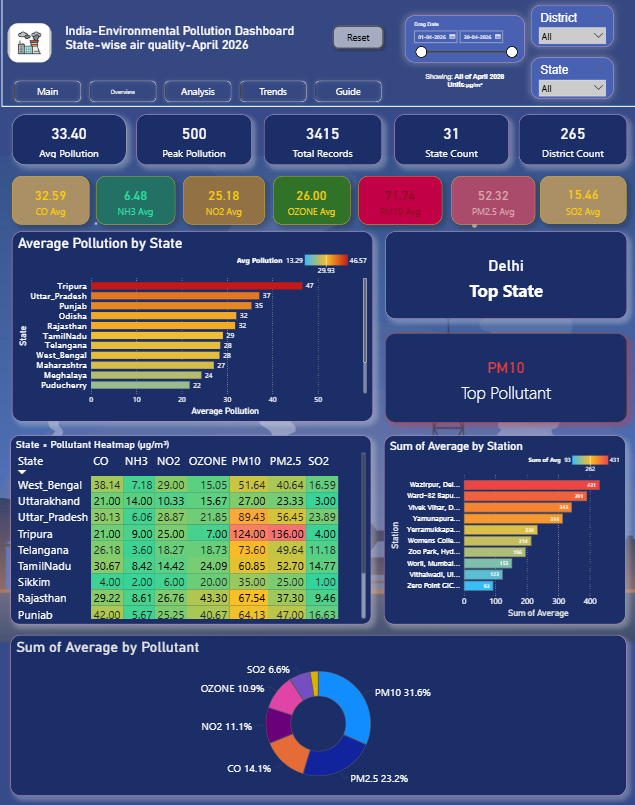

This screenshot's page, from the dashboard's own definition file:
{"tool":"powerbi","page":{"name":"Overview","canvas":[1415,1790],"ordinal":1},"visuals":[{"type":"shape","box":[1.7,0,1413.3,238.3],"z":0},{"type":"textbox","title":"India-Environmental Pollution Dashboard  State-wise air quality-April 2026","box":[140,53.3,553.3,95],"z":1000},{"type":"slicer","fields":{"Values":["Sheet1.District"]},"box":[1180,13.3,183.3,93.3],"z":2000},{"type":"card","fields":{"Values":["Sheet1.Avg Pollution"]},"box":[28,258,254,112],"z":3000},{"type":"card","fields":{"Values":["Sheet1.Peak Pollution"]},"box":[302,258,256,112],"z":4000},{"type":"card","fields":{"Values":["Sheet1.Top State"]},"box":[857,517.9,536.4,194.2],"z":5000},{"type":"card","fields":{"Values":["Sheet1.Total Records"]},"box":[588,258,262,112],"z":6000},{"type":"card","fields":{"Values":["Sheet1.State Count"]},"box":[876,258,254,112],"z":7000},{"type":"card","fields":{"Values":["Sheet1.District Count"]},"box":[1152,258,240,112],"z":8000},{"type":"clusteredBarChart","title":"Average Pollution by State","fields":{"Category":["Sheet1.State"],"Y":["Sheet1.Avg Pollution"]},"box":[28,518,802,422],"z":9000},{"type":"card","fields":{"Values":["Sheet1.Top Pollutant"]},"box":[857,742.9,536.4,197.3],"z":10000},{"type":"card","fields":{"Values":["Sheet1.CO Avg"]},"box":[28,392,172,108],"z":11000},{"type":"card","fields":{"Values":["Sheet1.NH3 Avg"]},"box":[214,392,176,108],"z":12000},{"type":"card","fields":{"Values":["Sheet1.NO2 Avg"]},"box":[406,392,182,108],"z":13000},{"type":"card","fields":{"Values":["Sheet1.OZONE Avg"]},"box":[608,392,172,108],"z":14000},{"type":"card","fields":{"Values":["Sheet1.PM10 Avg"]},"box":[796,392,186,108],"z":15000},{"type":"card","fields":{"Values":["Sheet1.PM2.5 Avg"]},"box":[1004,392,186,108],"z":16000},{"type":"card","fields":{"Values":["Sheet1.SO2 Avg"]},"box":[1200,392,192,106],"z":17000},{"type":"slicer","fields":{"Values":["Sheet1.Period"]},"box":[898.8,37.5,266.2,103.8],"z":18000},{"type":"pivotTable","title":"State × Pollutant Heatmap (µg/m³)","fields":{"Rows":["Sheet1.State"],"Columns":["Sheet1.Pollutant"],"Values":["Sheet1.Avg Pollution"]},"box":[24.7,971.1,801.5,419.2],"z":19000},{"type":"clusteredBarChart","title":"Sum of Average by Station","fields":{"Y":["Sum(Sheet1.Avg)"],"Category":["Sheet1.Station"]},"box":[853.9,971.1,536.4,419.2],"z":20000},{"type":"donutChart","title":"Sum of Average by Pollutant","fields":{"Category":["Sheet1.Pollutant"],"Y":["Sum(Sheet1.Avg)"]},"box":[24.7,1411.9,1368.7,357.6],"z":21000},{"type":"slicer","fields":{"Values":["Sheet1.State"]},"box":[1180,128.3,183.3,91.7],"z":22000},{"type":"pageNavigator","box":[24,174,834,64],"z":23000},{"type":"image","box":[16,54,98,88],"z":24000},{"type":"textbox","box":[898.8,157.5,266.2,48.8],"z":25000},{"type":"actionButton","box":[730,50,131.7,70],"z":26000}]}

Visuals, with their boxes in screenshot pixels (x1, y1, x2, y2), scaled from the page's 1415x1790 canvas onto the 635x805 screenshot:
shape: rect(1, 0, 634, 107)
"India-Environmental Pollution Dashboard  State-wise air quality-April 2026" textbox: rect(63, 24, 311, 67)
slicer - Sheet1.District: rect(530, 6, 612, 48)
card - Sheet1.Avg Pollution: rect(13, 116, 127, 166)
card - Sheet1.Peak Pollution: rect(136, 116, 250, 166)
card - Sheet1.Top State: rect(385, 233, 625, 320)
card - Sheet1.Total Records: rect(264, 116, 381, 166)
card - Sheet1.State Count: rect(393, 116, 507, 166)
card - Sheet1.District Count: rect(517, 116, 625, 166)
"Average Pollution by State" clusteredBarChart: rect(13, 233, 372, 423)
card - Sheet1.Top Pollutant: rect(385, 334, 625, 423)
card - Sheet1.CO Avg: rect(13, 176, 90, 225)
card - Sheet1.NH3 Avg: rect(96, 176, 175, 225)
card - Sheet1.NO2 Avg: rect(182, 176, 264, 225)
card - Sheet1.OZONE Avg: rect(273, 176, 350, 225)
card - Sheet1.PM10 Avg: rect(357, 176, 441, 225)
card - Sheet1.PM2.5 Avg: rect(451, 176, 534, 225)
card - Sheet1.SO2 Avg: rect(539, 176, 625, 224)
slicer - Sheet1.Period: rect(403, 17, 523, 64)
"State × Pollutant Heatmap (µg/m³)" pivotTable: rect(11, 437, 371, 625)
"Sum of Average by Station" clusteredBarChart: rect(383, 437, 624, 625)
"Sum of Average by Pollutant" donutChart: rect(11, 635, 625, 796)
slicer - Sheet1.State: rect(530, 58, 612, 99)
pageNavigator: rect(11, 78, 385, 107)
image: rect(7, 24, 51, 64)
textbox: rect(403, 71, 523, 93)
actionButton: rect(328, 22, 387, 54)
